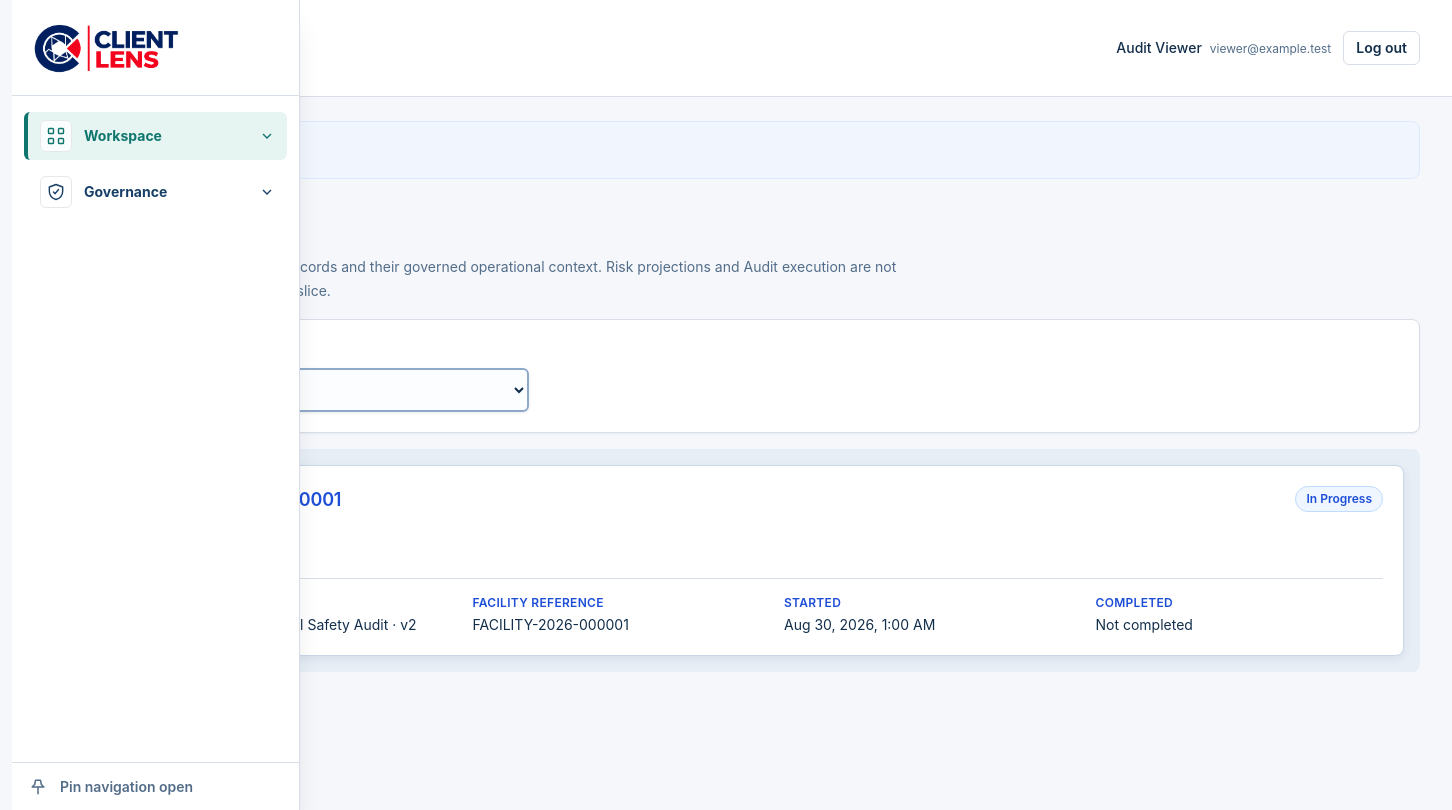
Audit workspace read paths › renders scoped Audit context and uses only the status filter for a view-only actor
Expected: the text "Full Safety Audit · Full Safety Audit · v2" is shown, top-left (161, 615), bottom-right (448, 635)
Select "Approved" in the dropdown labelled "Audit status": (337, 390) top-left (145, 368), bottom-right (529, 412)
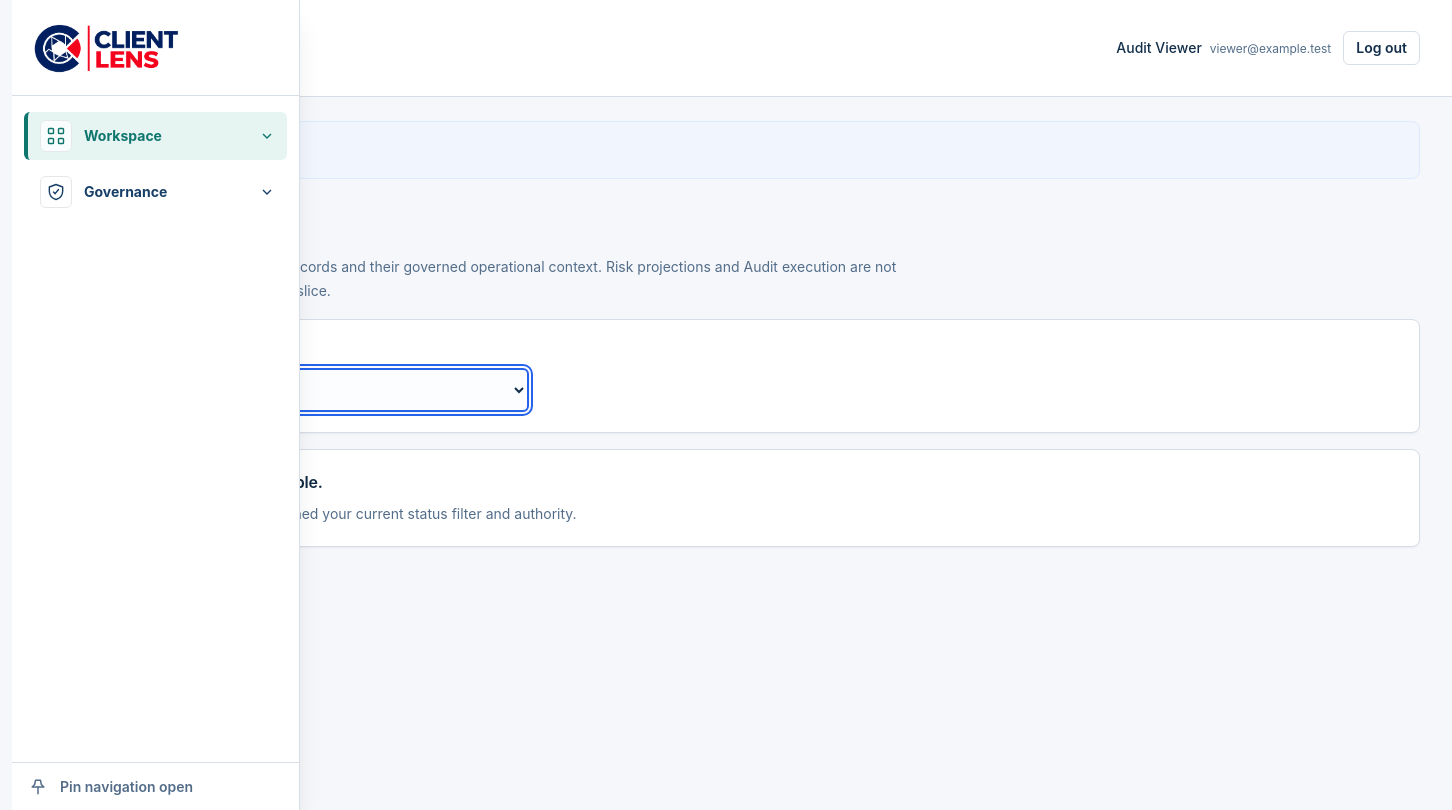
Result: the heading "No Audits are available." is shown at top-left (145, 472), bottom-right (323, 492)
